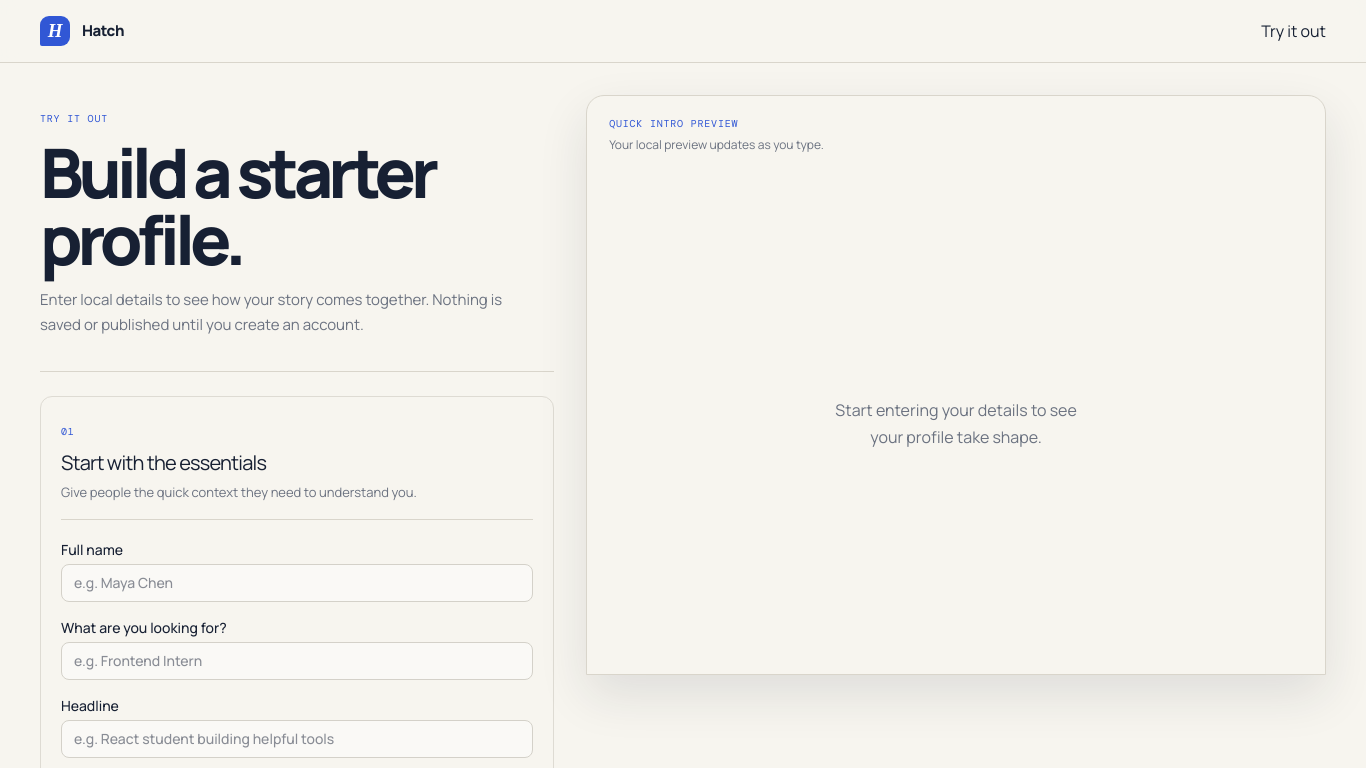
Test: Anonymous Preview › switches between Quick intro Template and Project spotlight Template
In the field labelled "Full name": (297, 583) [61, 564, 533, 602], type "Maya Chen"
(page scrolled)
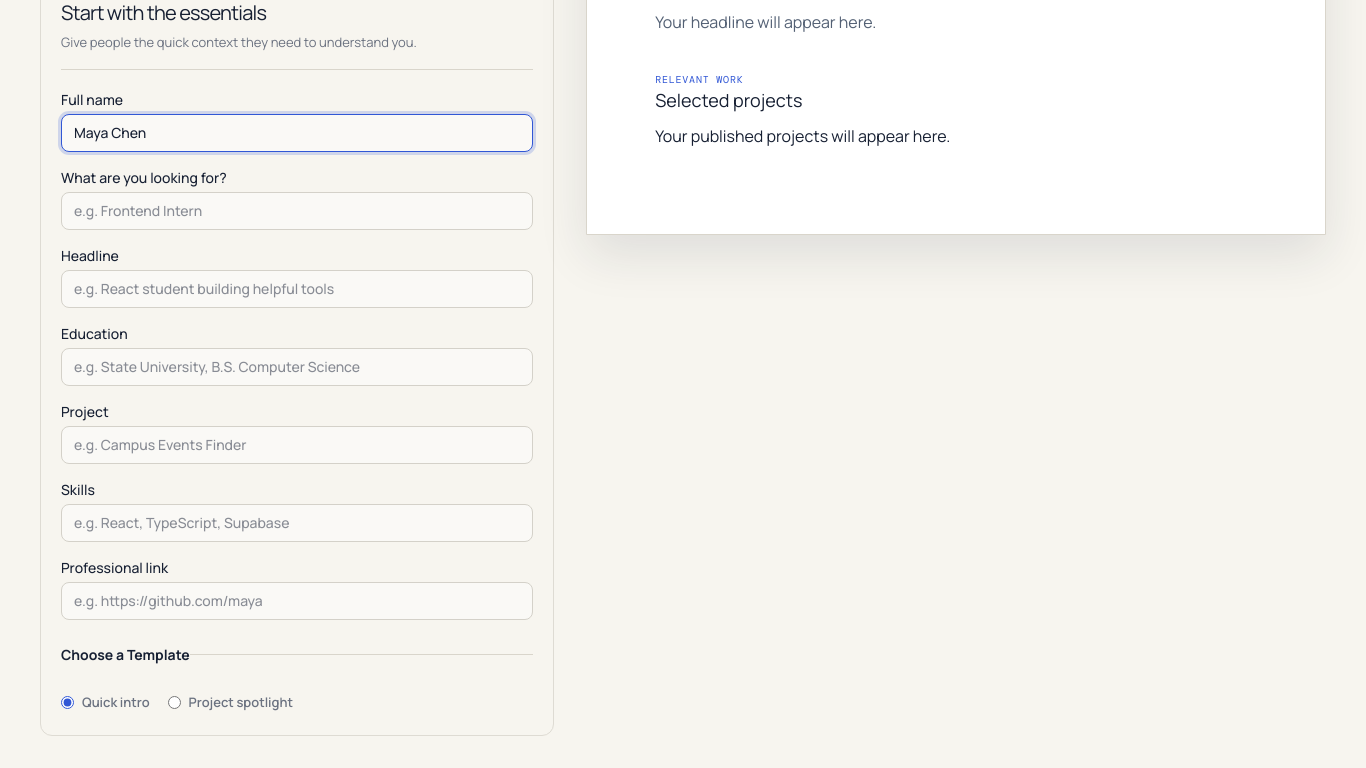
Click the radio button with aria-label "project spotlight look": (174, 703) [168, 696, 181, 709]
(page scrolled)
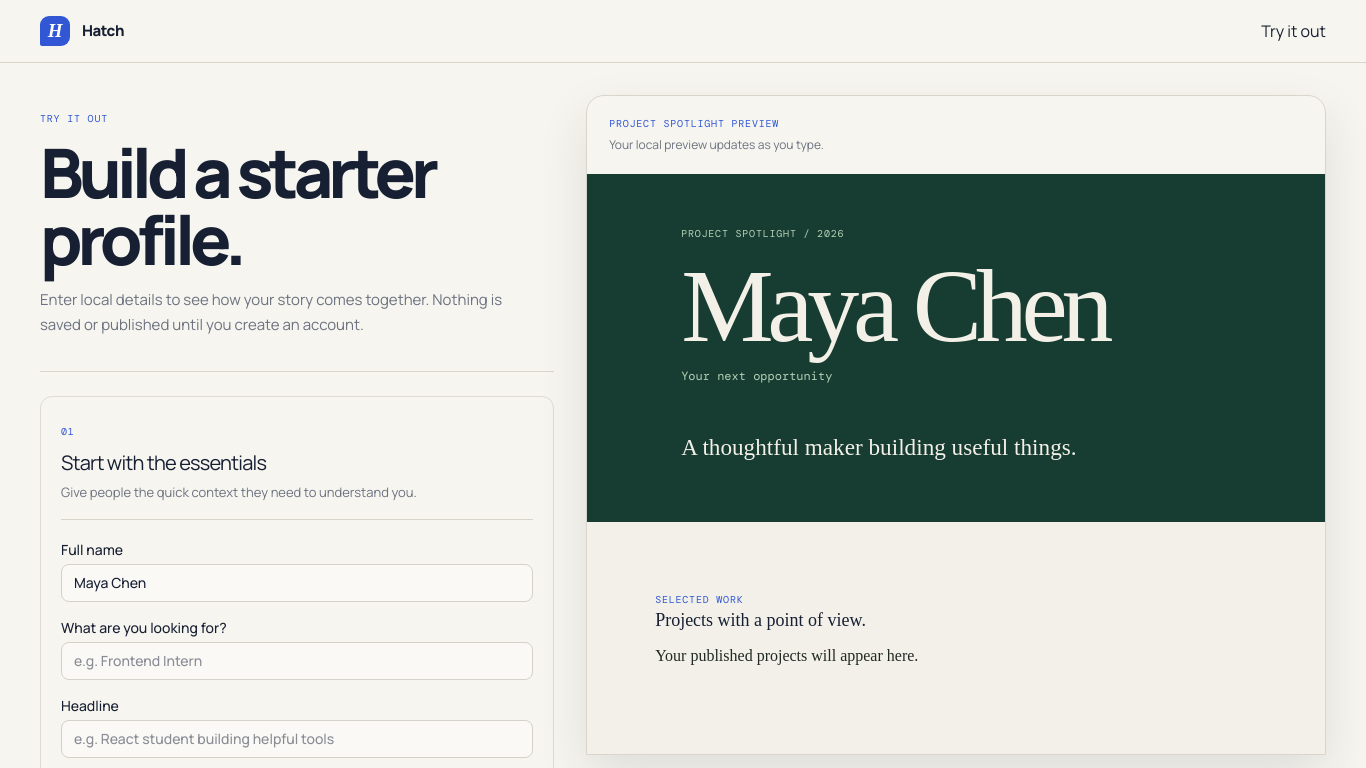
Result: the text "Project spotlight preview" is shown at [609, 117, 779, 130]
